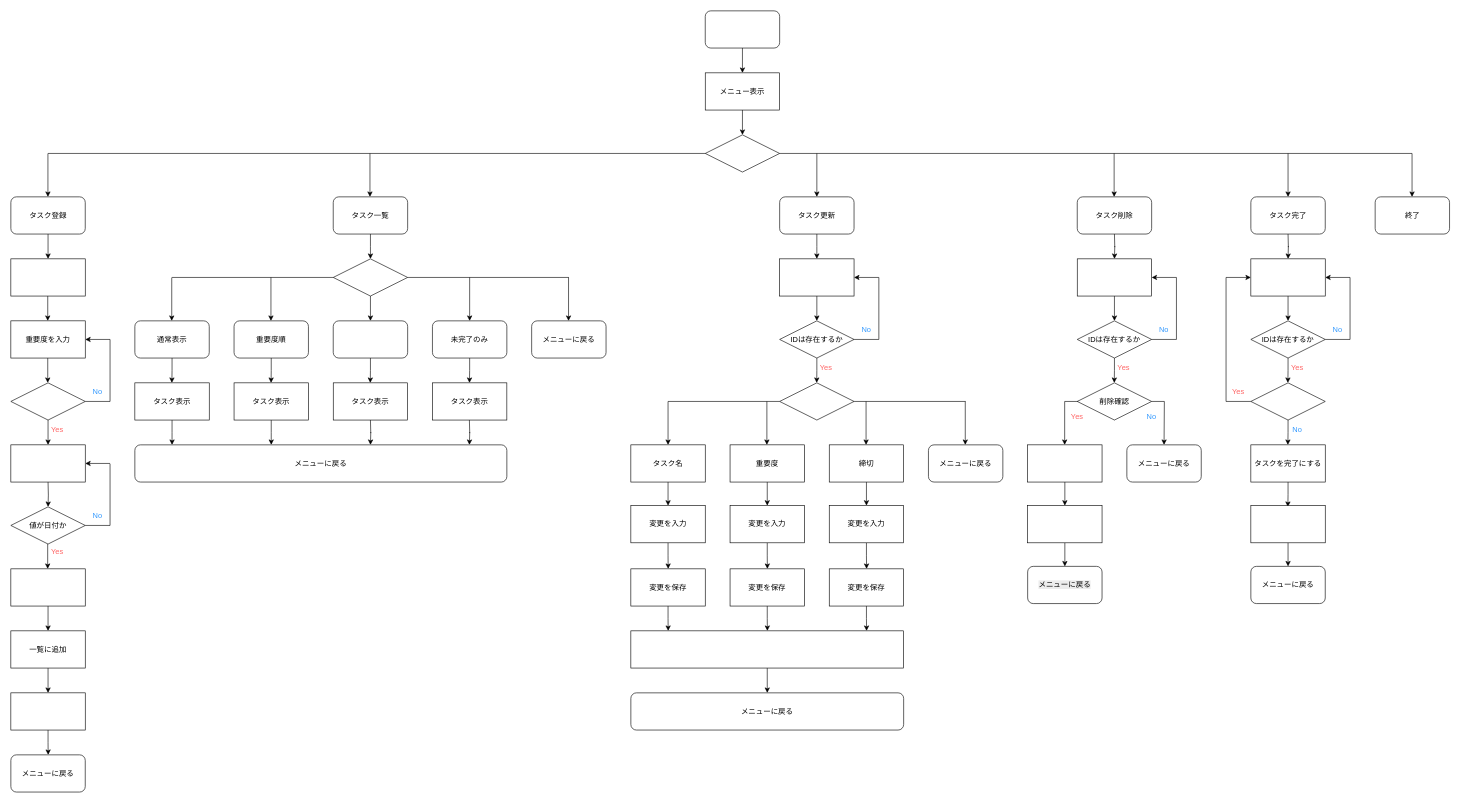
The diagram is 1461 pixels wide and 803 high, and some of its shapes have lost their labels. Each missing label, with the centre of its shape:
タスクの作成: pixel 47 587
タスク名を入力: pixel 47 277
タスク完了表示: pixel 1287 524
値が1~5か: pixel 47 401
削除: pixel 1064 463
削除するIDを入力: pixel 1114 277
削除完了表示: pixel 1064 524
変更項目を選択: pixel 816 401
完了するタスク の IDを入力: pixel 1287 277
既に完了済みか: pixel 1287 401
更新するIDを入力: pixel 816 277
更新完了表示: pixel 767 649
期限を入力: pixel 47 463
番号入力: pixel 742 153
登録完了表示: pixel 47 711
締切日順: pixel 370 339
表示方法を選択: pixel 370 277
開始: pixel 742 29
